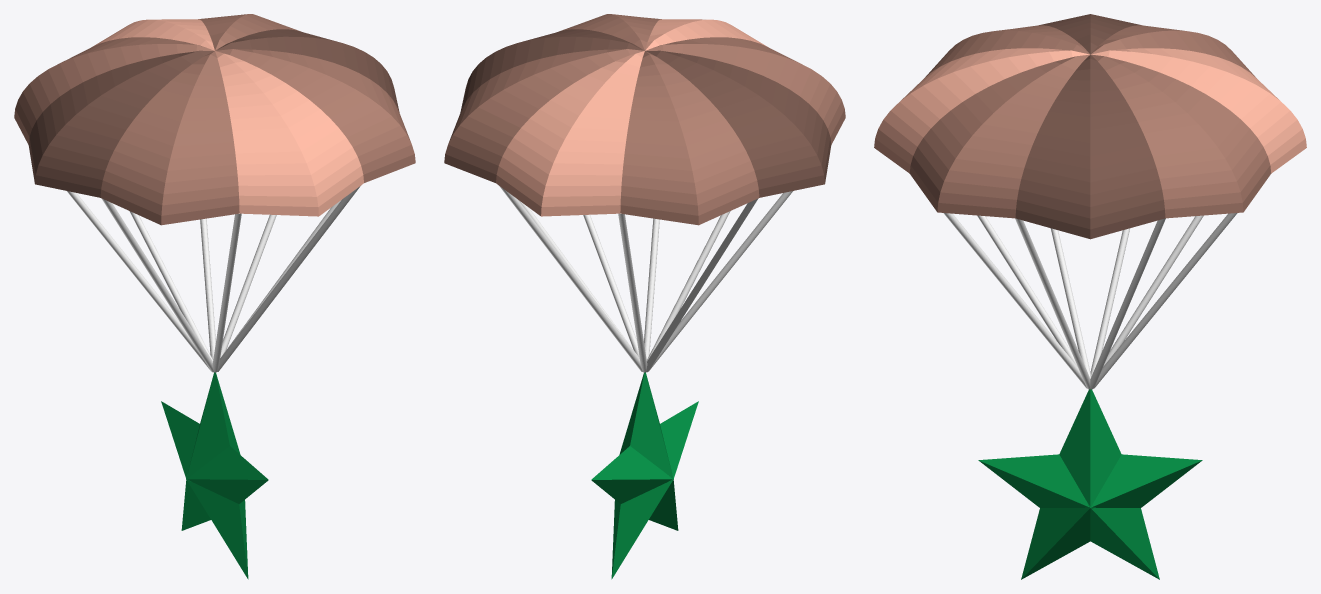
The model's file is ParachuteCrewmate.dae.
The picture shows the model from 3 angles, left to right: view 1: azimuth 30°, elevation 25°; view 2: azimuth 150°, elevation 25°; view 3: azimuth 270°, elevation 25°; orthographic projection. The views are drawn at different scales.
Parts seen in each view (by area): view 1: Sphere.001; view 2: Sphere.001; view 3: Sphere.001.
Part boxes in pixels (x1,y1,x2,y2): Sphere.001: (14,14,415,579); Sphere.001: (444,14,845,579); Sphere.001: (874,14,1306,579).
Size of the model in its own units: 25 by 25 by 33.74.
